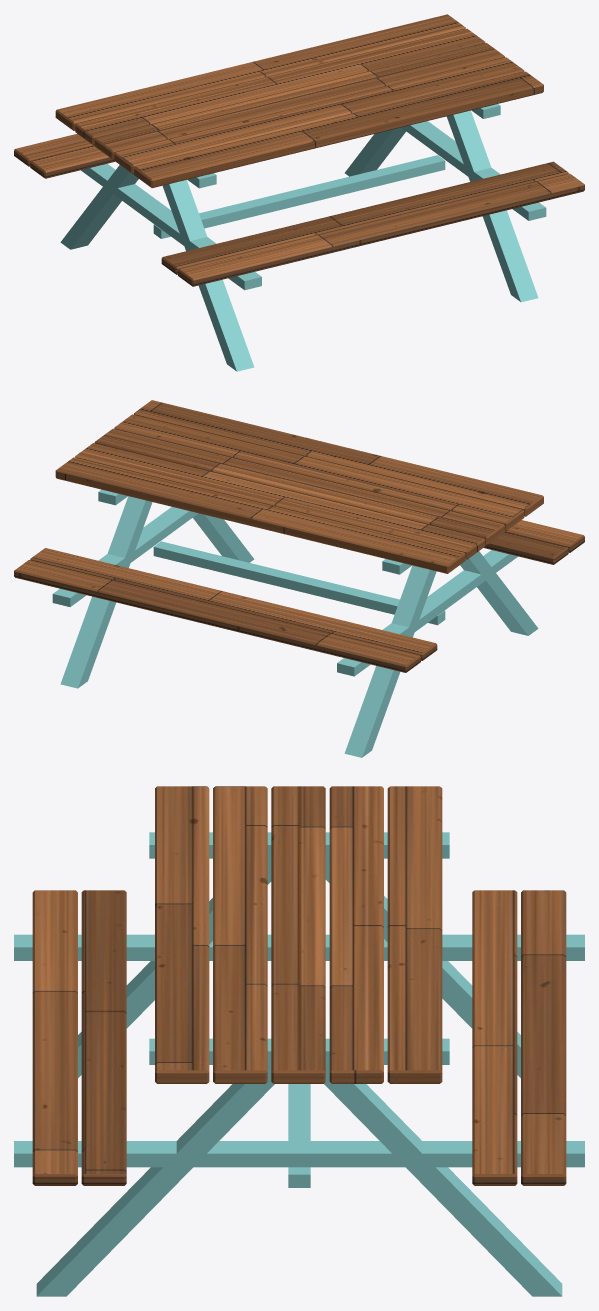
Rendered from picnic_t.glb.
3 renders of one model, top to bottom at view 1: azimuth 30°, elevation 25°; view 2: azimuth 150°, elevation 25°; view 3: azimuth 270°, elevation 25°, orthographic. The views are drawn at different scales.
Visible parts, largest first — view 1: picnic_t_teak, picnic_t_pic_t; view 2: picnic_t_teak, picnic_t_pic_t; view 3: picnic_t_teak, picnic_t_pic_t.
Part boxes in pixels (box(x1,y1,x2,y2)): picnic_t_teak: box(14, 14, 584, 286); picnic_t_pic_t: box(60, 104, 546, 371); picnic_t_teak: box(14, 400, 584, 672); picnic_t_pic_t: box(52, 489, 538, 757); picnic_t_teak: box(32, 786, 566, 1185); picnic_t_pic_t: box(14, 832, 584, 1296).
Bounding box in the file's own units: 1.8 × 0.76 × 1.52.
Materials: 2 (1 with a texture image).
